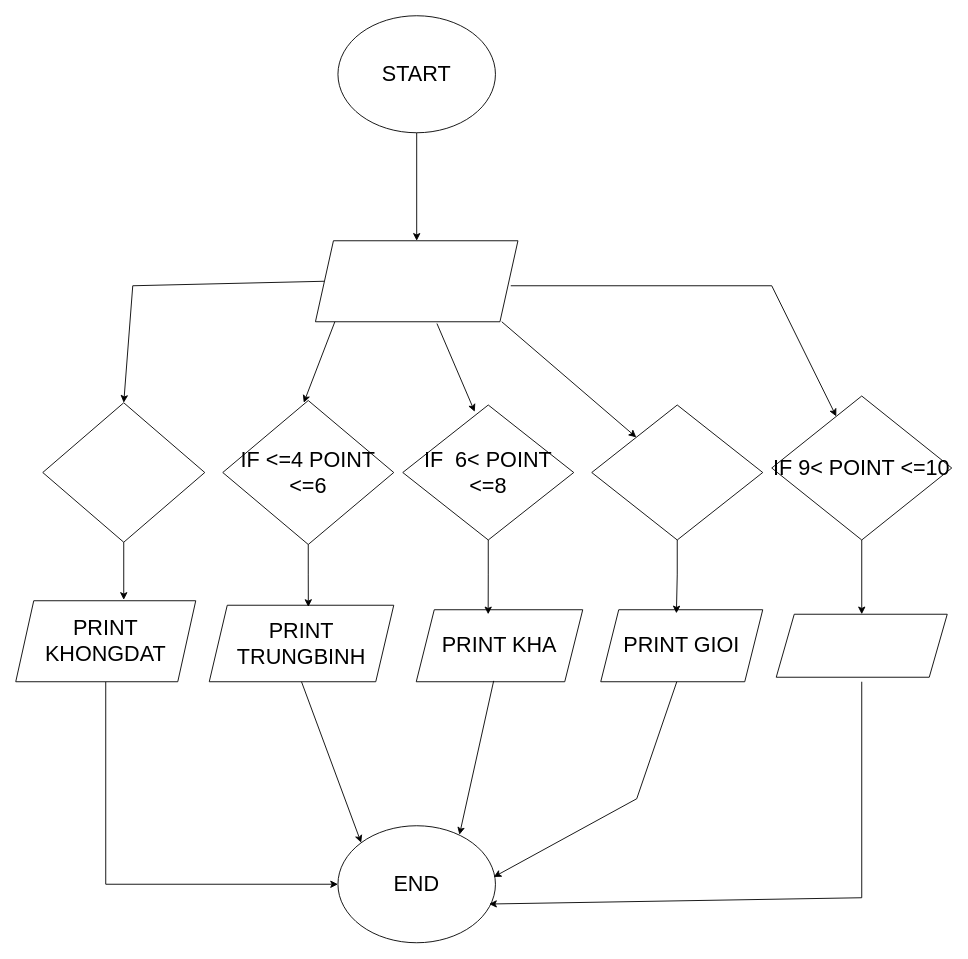
This 968x959 diagram has some shape labels left out. The shapes that lost their labels are listed below. From the top down, each one's centre as x and y in pixels, then its label:
At point (416, 281): "INPUT POINT".
At point (123, 472): "IF POINT < 4".
At point (677, 472): "IF 8< POINT <=9".
At point (861, 645): "PRINT XUATSAC".
